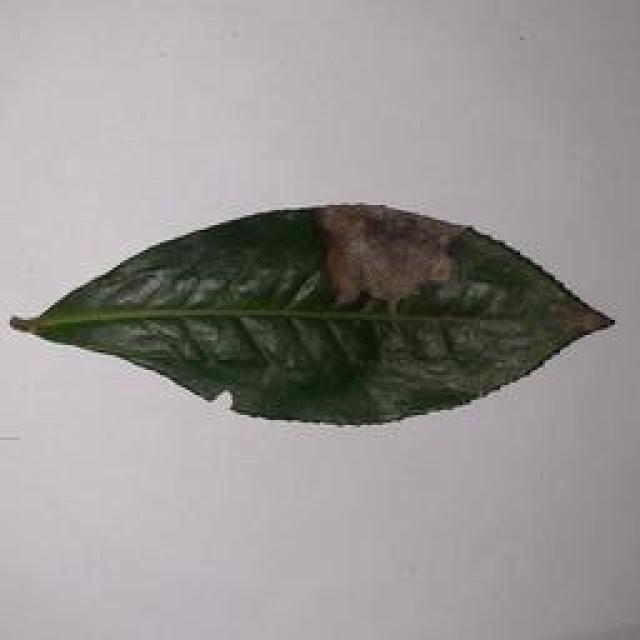Gray Blight: (2, 201, 618, 444)
